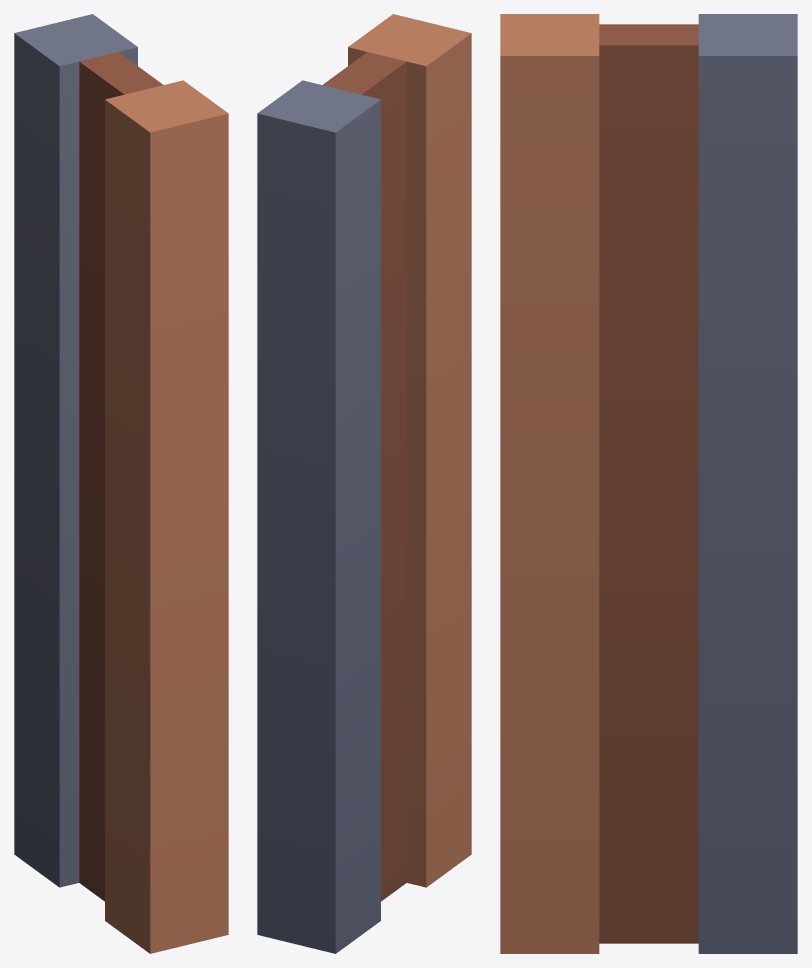
File: wall-wood-arch.glb
3 views of the same model, side by side, from view 1: azimuth 30°, elevation 25°; view 2: azimuth 150°, elevation 25°; view 3: azimuth 270°, elevation 25° (orthographic). The views are drawn at different scales.
Visible parts, largest first — view 1: wall-wood-arch; view 2: wall-wood-arch; view 3: wall-wood-arch.
Part boxes in pixels (bbox=[...]): wall-wood-arch: bbox=[14, 14, 228, 953]; wall-wood-arch: bbox=[257, 14, 471, 953]; wall-wood-arch: bbox=[500, 14, 797, 953].
Size of the model in its own units: 0.1 by 1 by 0.3.
Materials: 1 (1 with a texture image).
